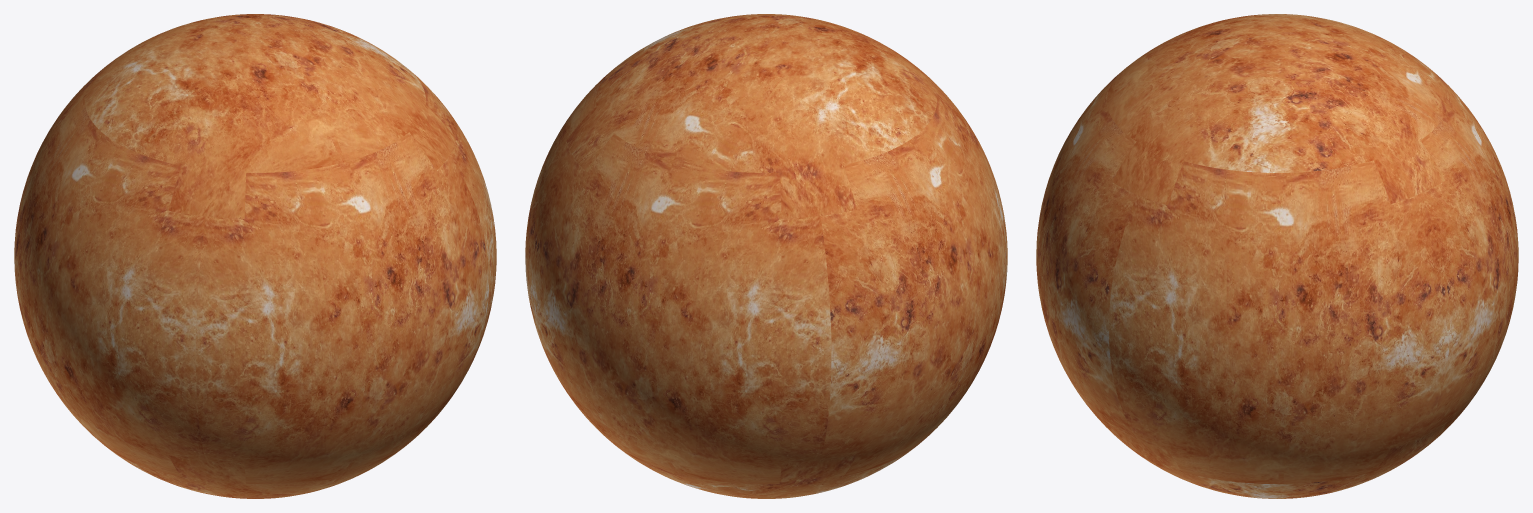
The model's file is venus.fbx.
3 views of the same model, side by side, from view 1: azimuth 30°, elevation 25°; view 2: azimuth 150°, elevation 25°; view 3: azimuth 270°, elevation 25° (orthographic).
Visible parts, largest first — view 1: venus; view 2: venus; view 3: venus.
Boxes of the visible parts, x1,y1,x2,y2 form: venus: [14, 14, 496, 498]; venus: [525, 14, 1007, 498]; venus: [1036, 14, 1518, 498].
Bounding box in the file's own units: 103 × 105 × 104.
1 material, 1 textured.
